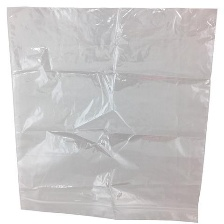plastic_bag: (3, 4, 223, 224)
